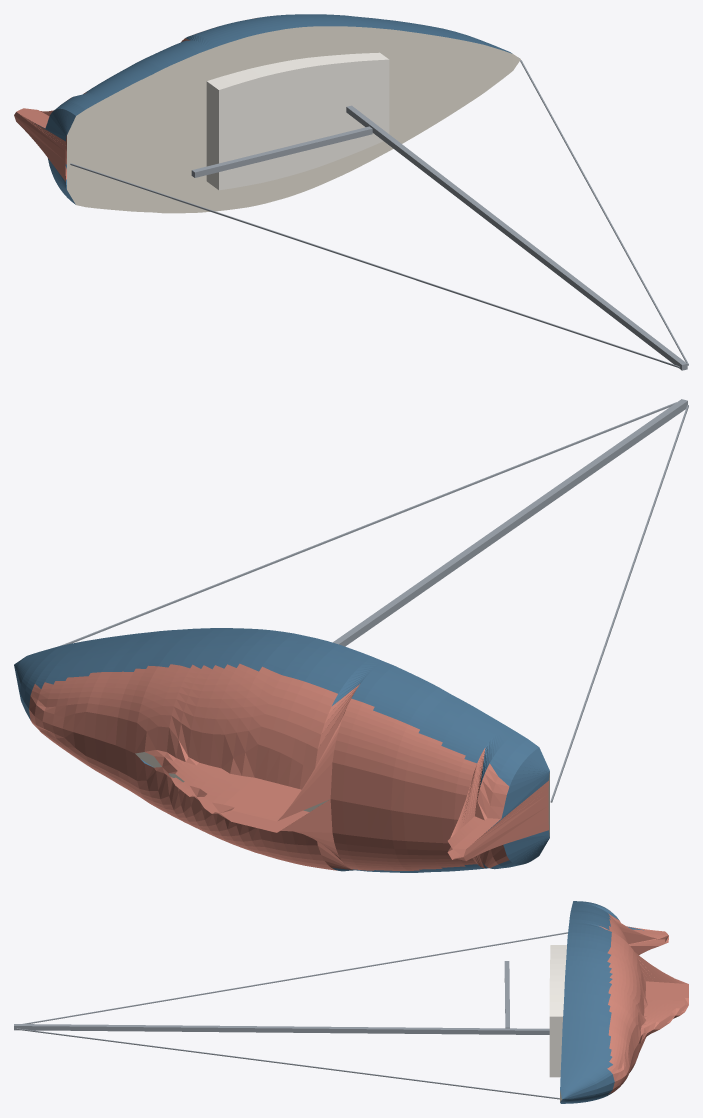
Rendered from catalina-30-mkii-lines.glb.
The picture shows the model from 3 angles, top to bottom: view 1: azimuth 30°, elevation 25°; view 2: azimuth 150°, elevation 25°; view 3: azimuth 270°, elevation 25°; orthographic projection. The views are drawn at different scales.
Visible parts, largest first — view 1: Catalina 30 Mk II; view 2: Catalina 30 Mk II; view 3: Catalina 30 Mk II.
Boxes of the visible parts, x1,y1,x2,y2 form: Catalina 30 Mk II: (14, 14, 688, 370); Catalina 30 Mk II: (14, 399, 688, 872); Catalina 30 Mk II: (14, 901, 688, 1103).
Size of the model in its own units: 2 by 0.7312 by 3.4.
